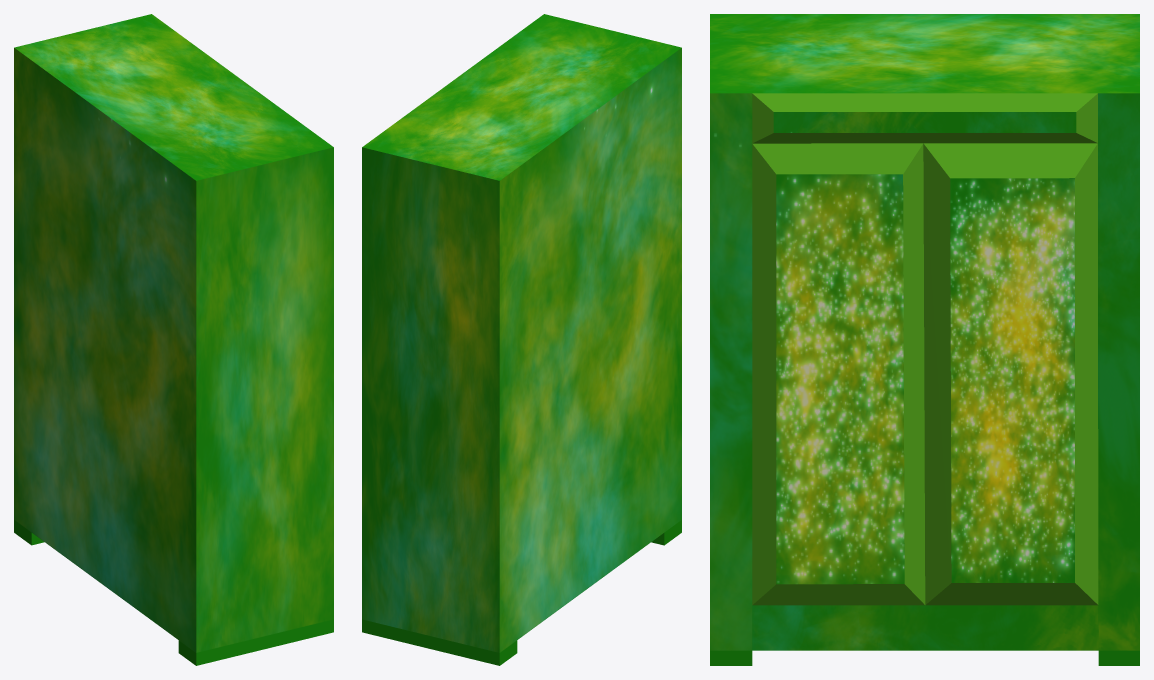
The model's file is wardrobe.fbx.
3 views of the same model, side by side, from view 1: azimuth 30°, elevation 25°; view 2: azimuth 150°, elevation 25°; view 3: azimuth 270°, elevation 25° (orthographic). The views are drawn at different scales.
Parts seen in each view (by area): view 1: pCube1; view 2: pCube1; view 3: pCube1.
Part boxes in pixels (x1=…): pCube1: x1=14, y1=14, x2=333, y2=665; pCube1: x1=362, y1=14, x2=681, y2=665; pCube1: x1=710, y1=14, x2=1139, y2=665.
Bounding box in the file's own units: 5.81 × 18.13 × 12.33.
